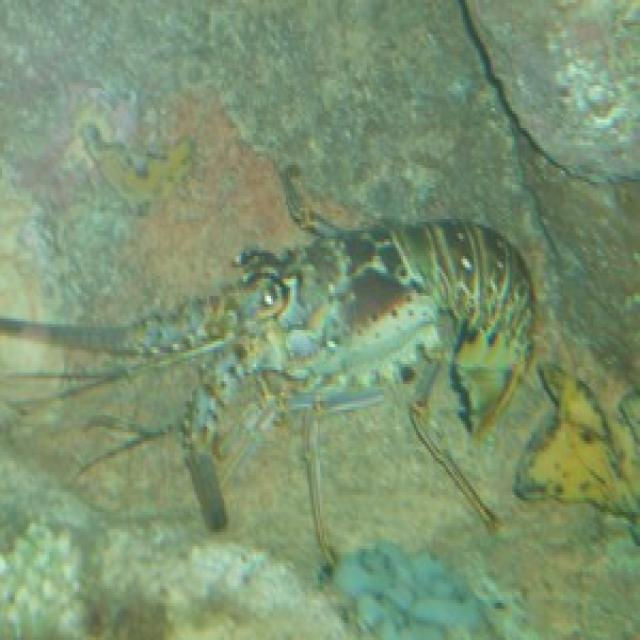lobsters: (7, 81, 597, 598)
